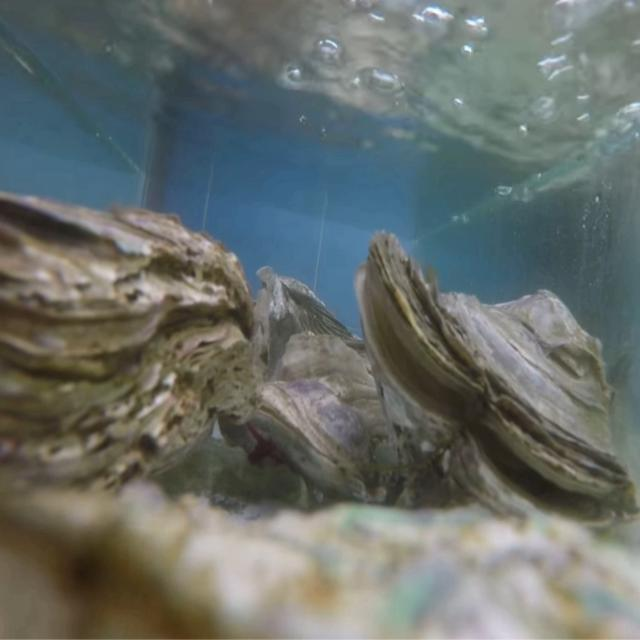Oyster-Closed: (0, 190, 255, 517), (249, 336, 415, 508)
Oyster-Indeterminate: (0, 478, 640, 640), (254, 266, 370, 383)
Oyster-Open: (353, 227, 640, 545)
